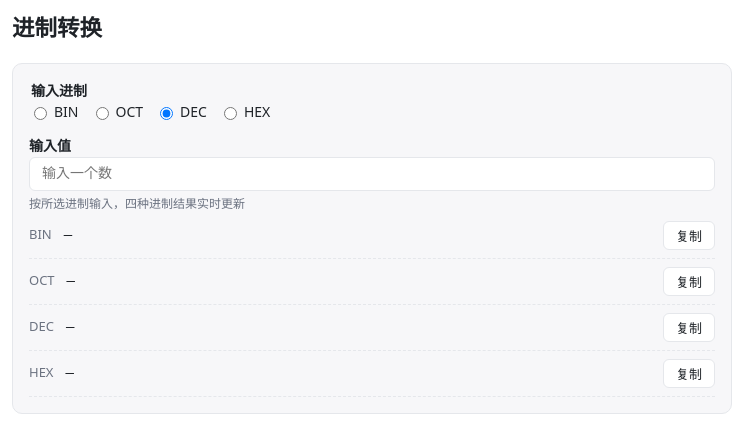
Test: AC-3 HEX 输入与大写输出 › AC-3: 切到 HEX 输入 ff → DEC 255 / BIN 11111111 / OCT 377，HEX 行大写
The width and height of the screenshot is (749, 431).
Click the radio button labelled "HEX" at (230, 113), box [224,107,237,120]
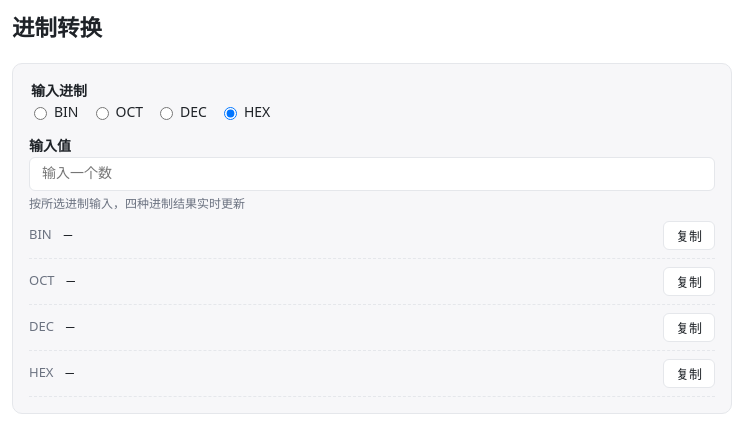
Type "ff" into the field labelled "输入值" at (372, 174), box [29,157,715,191]
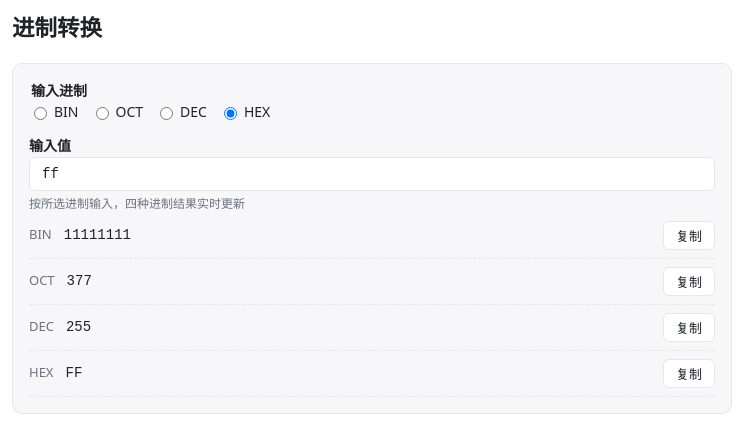
Now the text "255" is shown, box [66,319,91,335]
Now the text "11111111" is shown, box [64,227,131,243]
Now the text "377" is shown, box [67,273,92,289]
